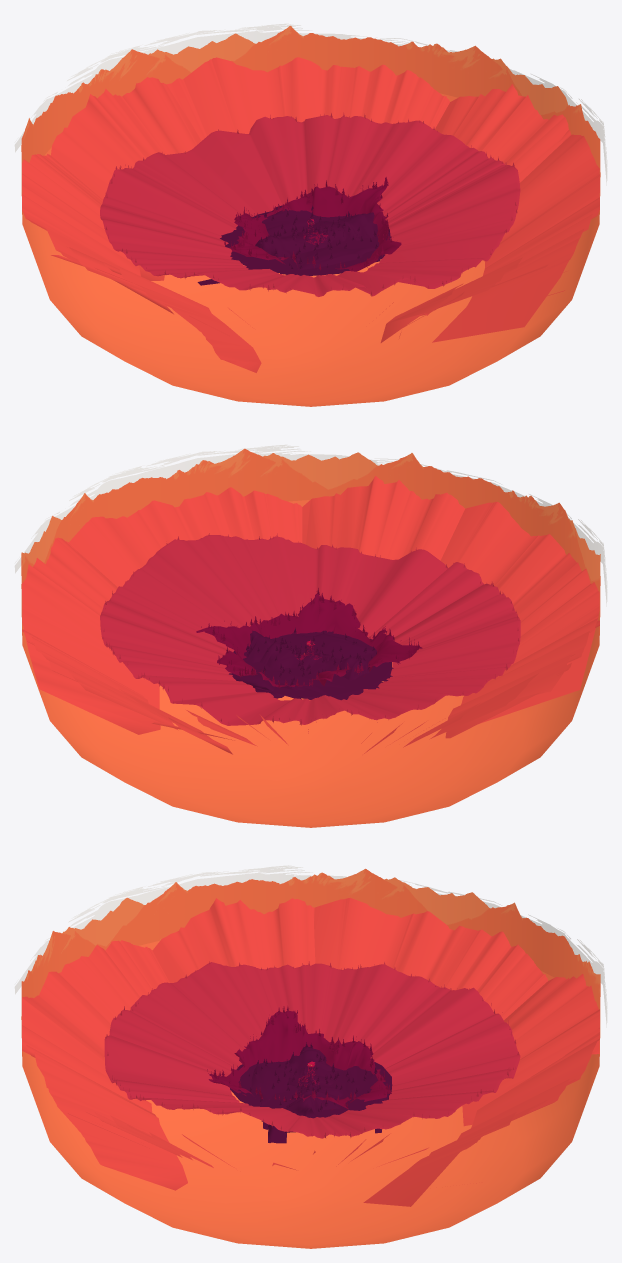
Rendered from art.glb.
The picture shows the model from 3 angles, top to bottom: view 1: azimuth 30°, elevation 25°; view 2: azimuth 150°, elevation 25°; view 3: azimuth 270°, elevation 25°; orthographic projection.
Visible parts, largest first — view 1: _gltfNode_5, _gltfNode_1, _gltfNode_2; view 2: _gltfNode_5, _gltfNode_1, _gltfNode_2; view 3: _gltfNode_5, _gltfNode_1, _gltfNode_2.
Boxes of the visible parts, x1,y1,x2,y2 form: _gltfNode_5: [22, 57, 599, 406]; _gltfNode_1: [14, 23, 607, 265]; _gltfNode_2: [260, 206, 377, 268]; _gltfNode_5: [22, 476, 599, 827]; _gltfNode_1: [14, 444, 607, 679]; _gltfNode_2: [246, 628, 376, 684]; _gltfNode_5: [22, 897, 599, 1248]; _gltfNode_1: [14, 865, 607, 1108]; _gltfNode_2: [248, 1043, 377, 1111].
Size of the model in its own units: 3267 by 1327 by 3239.
1 material, 1 textured.
